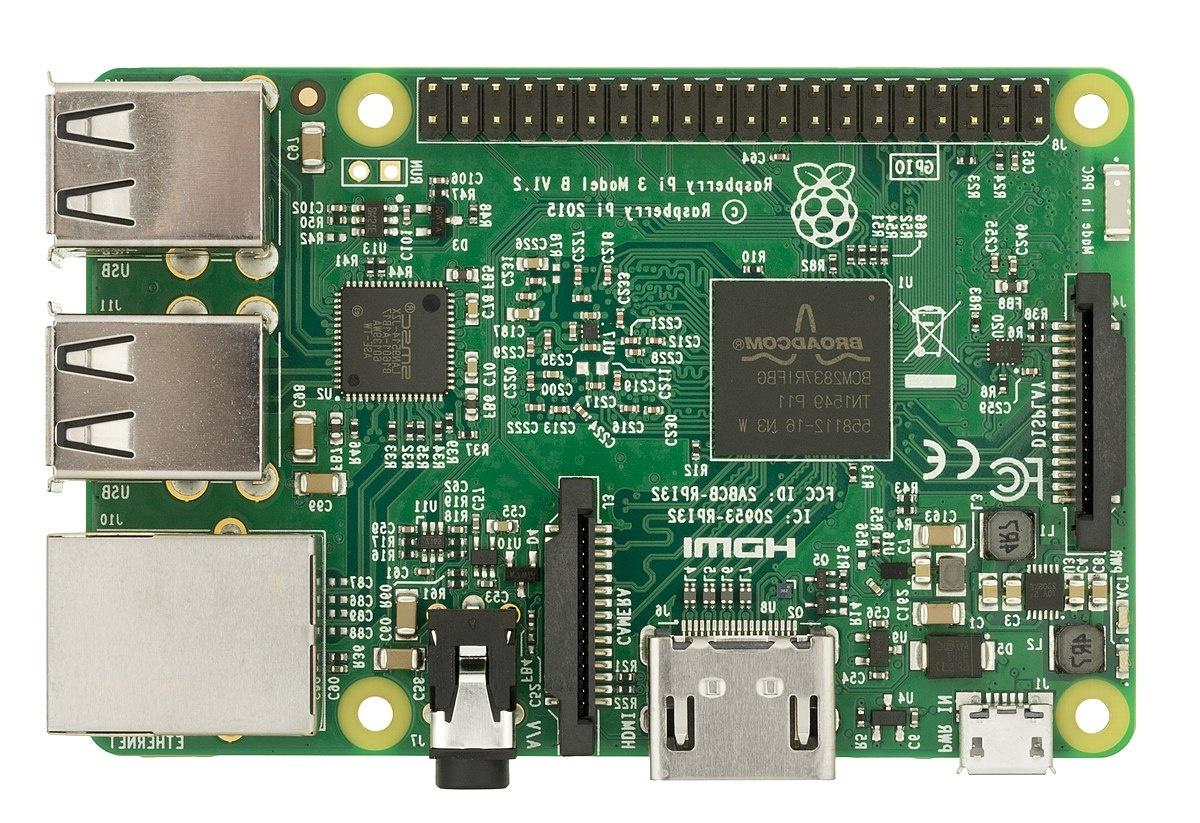audiojack: (424, 605, 516, 788)
bchi: (708, 275, 893, 469)
ethernet: (44, 526, 322, 739)
gpio: (418, 72, 1050, 149)
usb: (40, 308, 277, 482), (44, 78, 268, 252)
